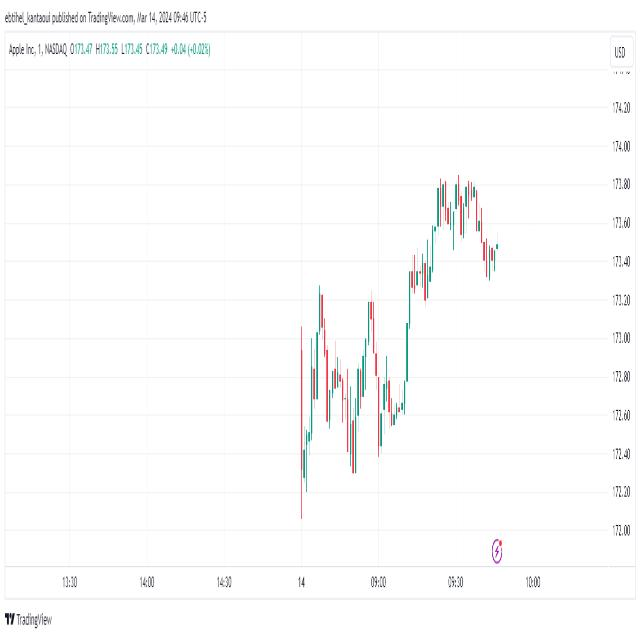Triple-Bottom: (293, 288, 419, 485)
Triple-Top: (430, 166, 484, 245)
